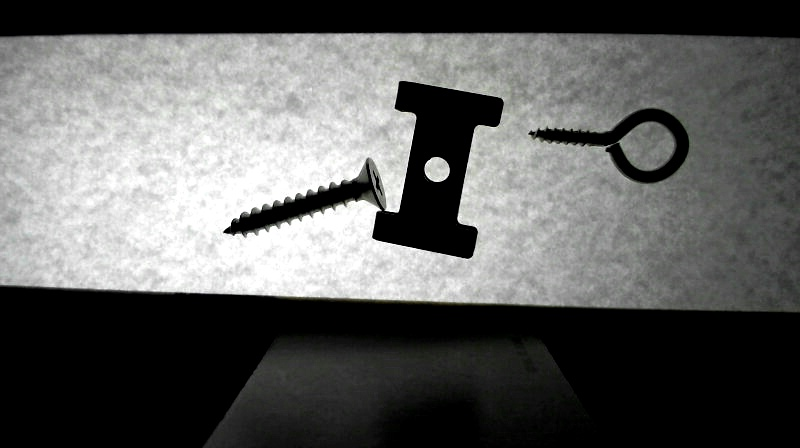O001: (523, 105, 691, 183)
O002: (371, 79, 504, 259)
S001: (224, 156, 388, 236)
